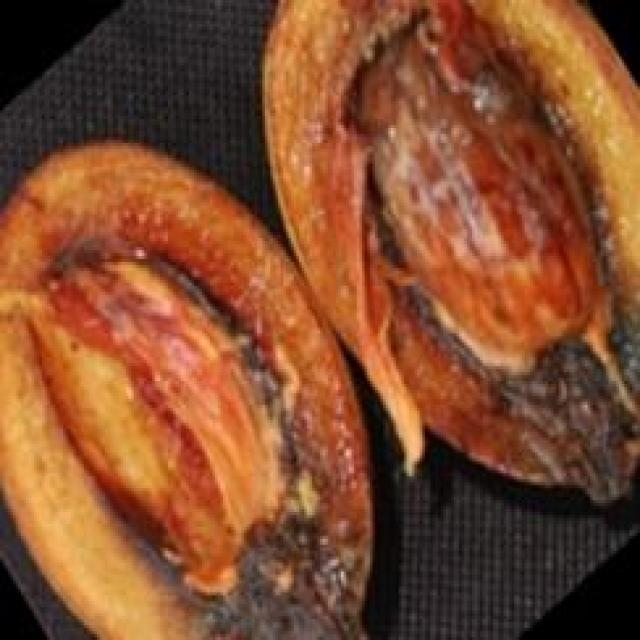damaged: (262, 0, 637, 503), (0, 143, 370, 637)
